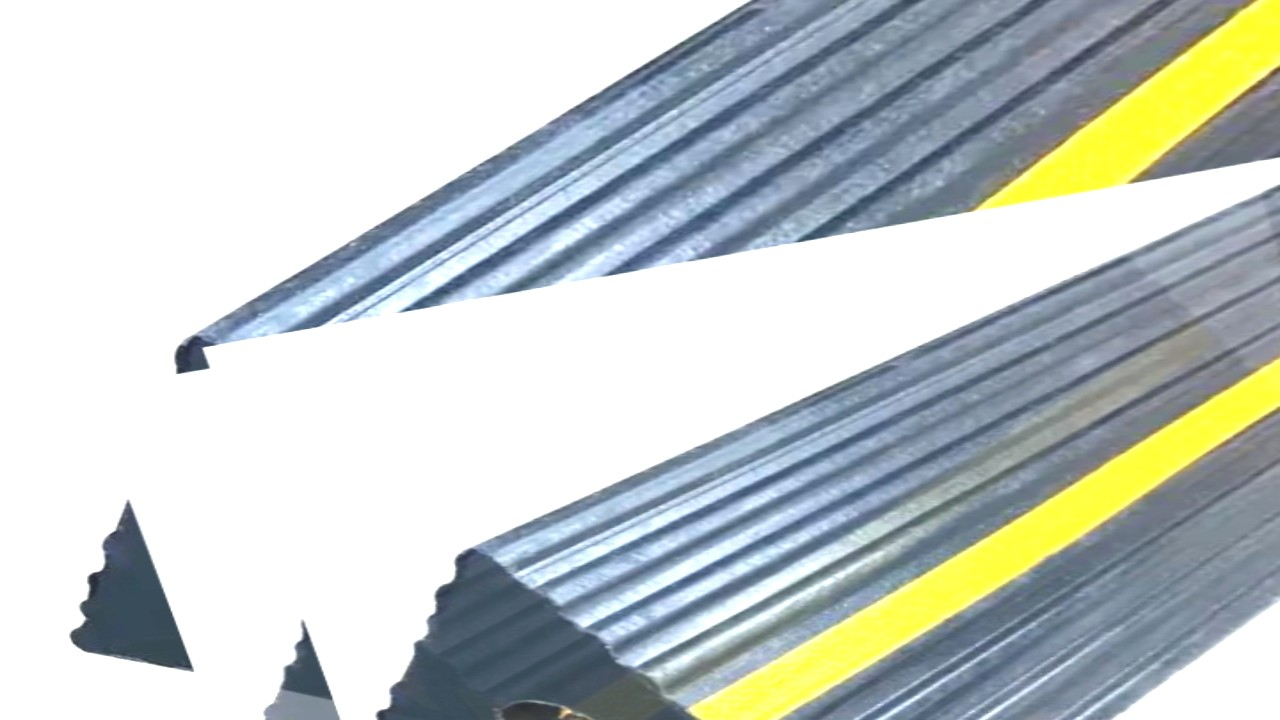chock: (0, 0, 1280, 720), (202, 89, 1280, 720), (84, 166, 1280, 720)
